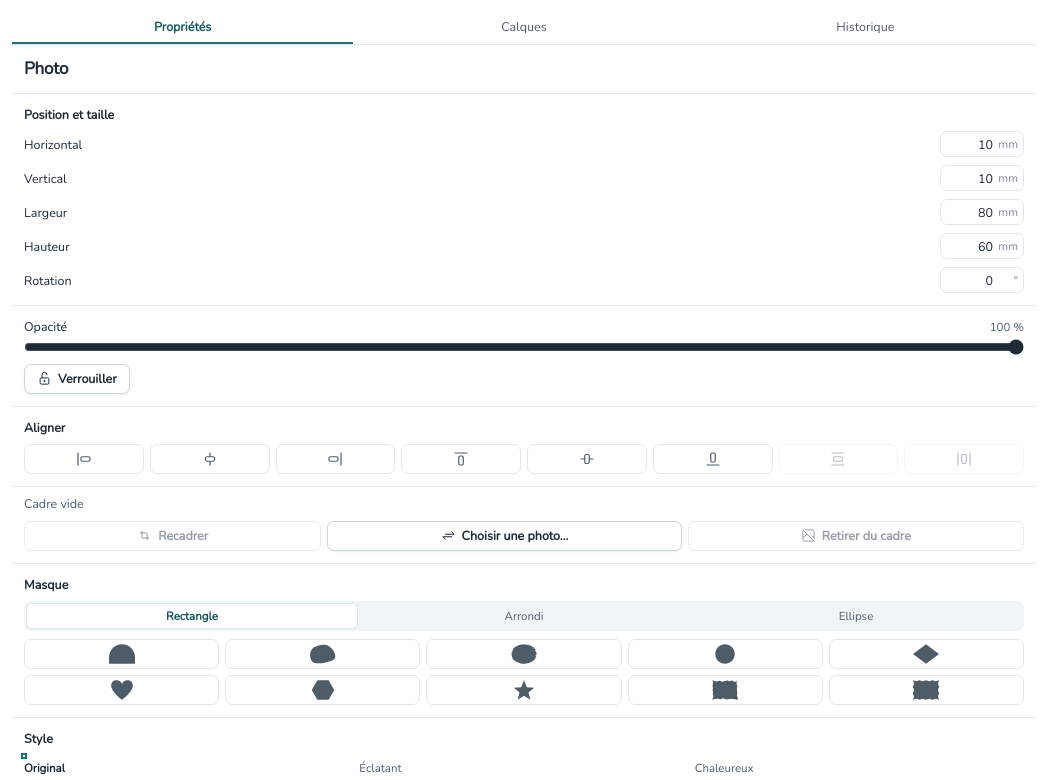
Inspector › common section and tabs › locks the element, and then refuses to move it from the fields
Click the button "Verrouiller": [77, 379] box [24, 364, 130, 394]
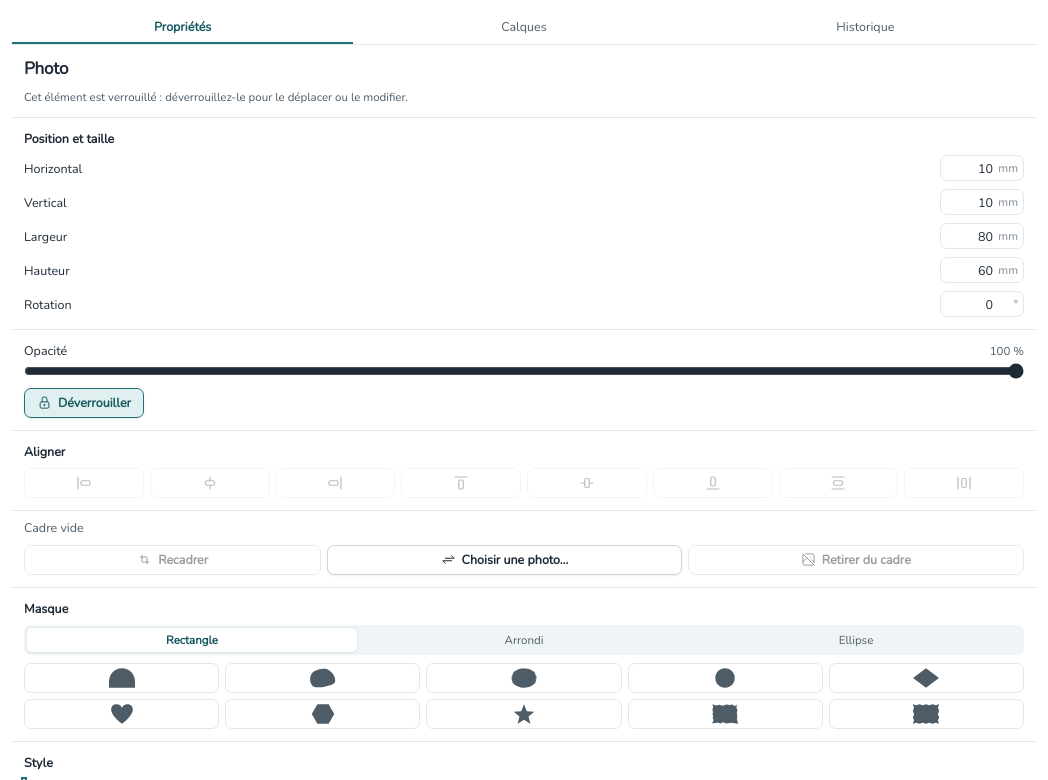
Check: the field labelled "Horizontal" is disabled, box [940, 155, 1024, 181]
Check: the button "Déverrouiller" is shown, box [24, 388, 144, 418]
